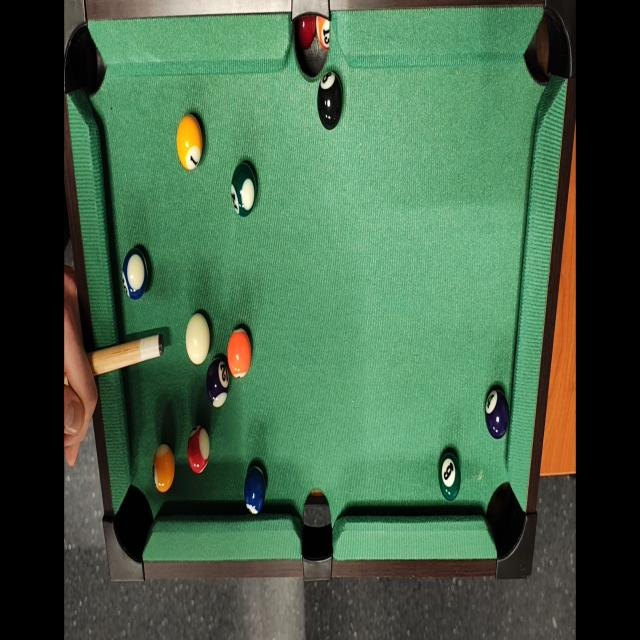cue ball: (185, 306, 211, 370)
other: (174, 109, 203, 174), (484, 384, 512, 449), (148, 442, 180, 497), (121, 244, 150, 304), (230, 156, 258, 218), (437, 446, 464, 509), (318, 72, 345, 134), (242, 460, 266, 522), (226, 324, 250, 383), (206, 355, 230, 412), (186, 423, 210, 474)
